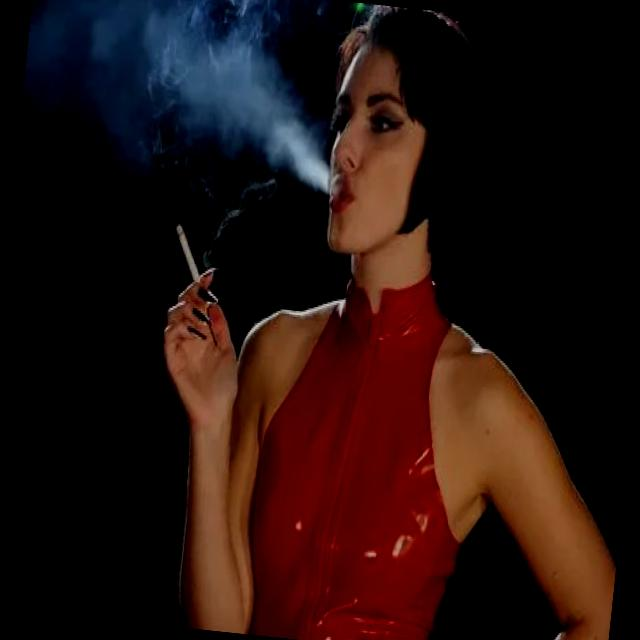smoke: (168, 220, 208, 288)
